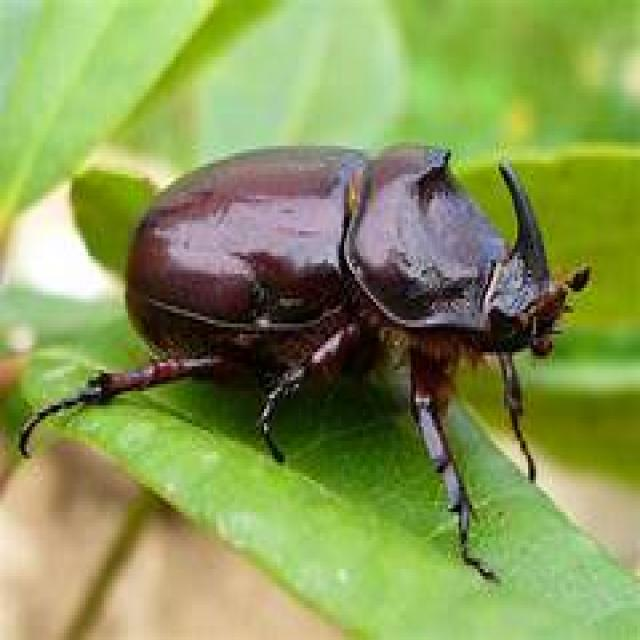Rhino-beetle: (88, 122, 638, 553)
